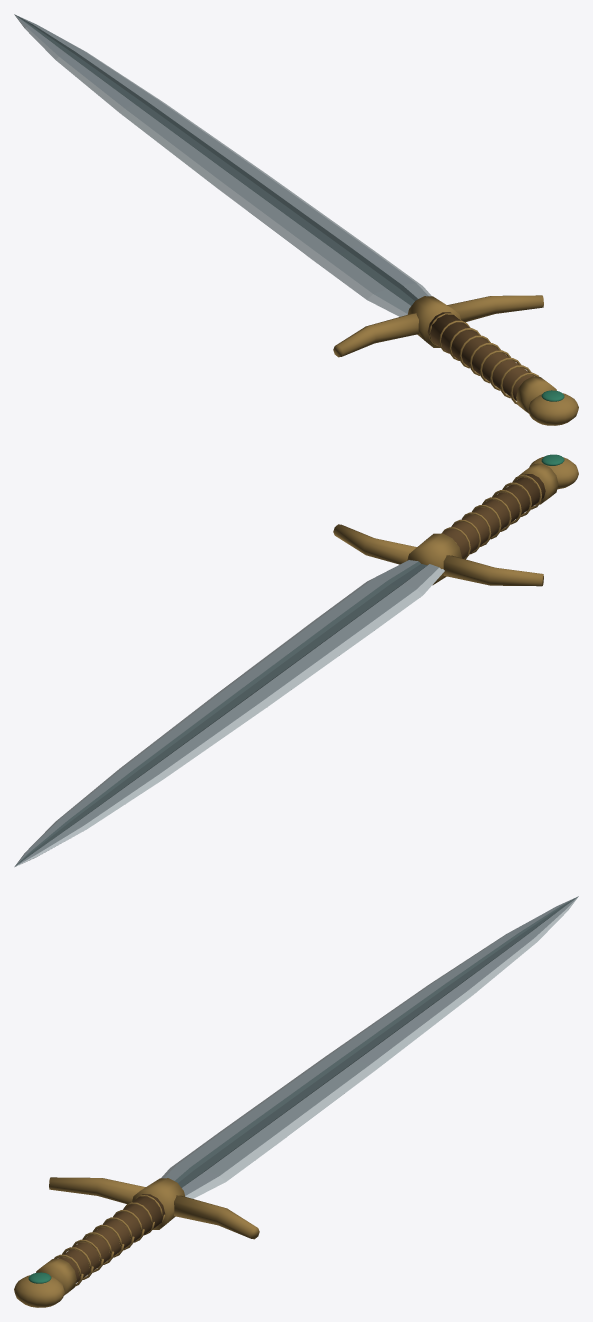
File: marchguard.glb
3 views of the same model, one above another, from view 1: azimuth 30°, elevation 25°; view 2: azimuth 150°, elevation 25°; view 3: azimuth 330°, elevation 25° (orthographic).
Parts seen in each view (by area): view 1: MV_marchguard; view 2: MV_marchguard; view 3: MV_marchguard.
Boxes of the visible parts, bbox=[...] form: MV_marchguard: bbox=[14, 14, 578, 425]; MV_marchguard: bbox=[14, 454, 578, 867]; MV_marchguard: bbox=[14, 896, 578, 1307].
Size of the model in its own units: 0.2957 by 0.054 by 1.35.
